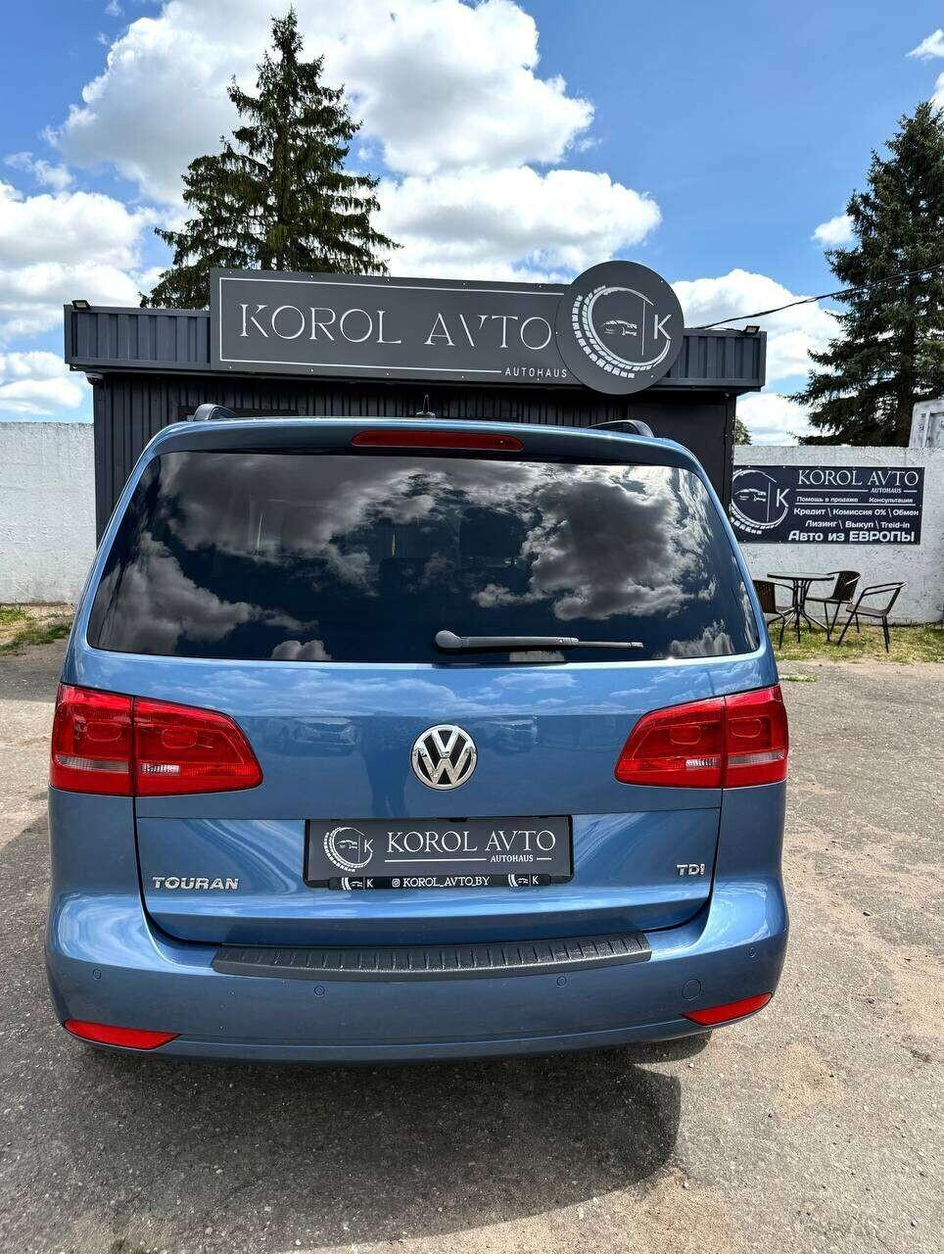Touran_2010-2015: (36, 411, 795, 1083)
